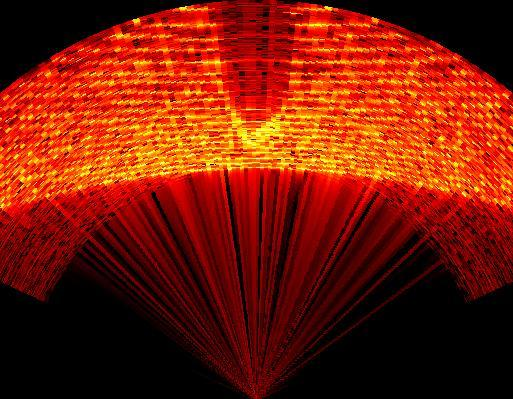box_crate: (208, 5, 297, 132)
